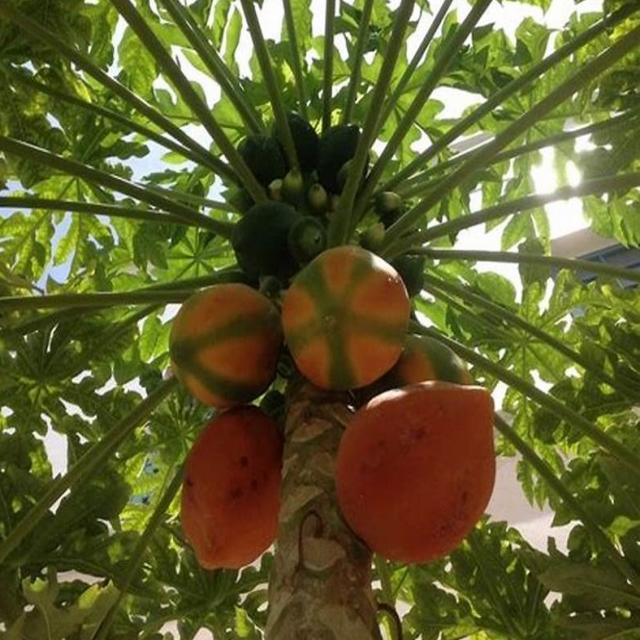Pepaya rippen: (333, 367, 505, 559), (277, 241, 413, 386), (177, 413, 279, 575), (164, 276, 272, 404)
